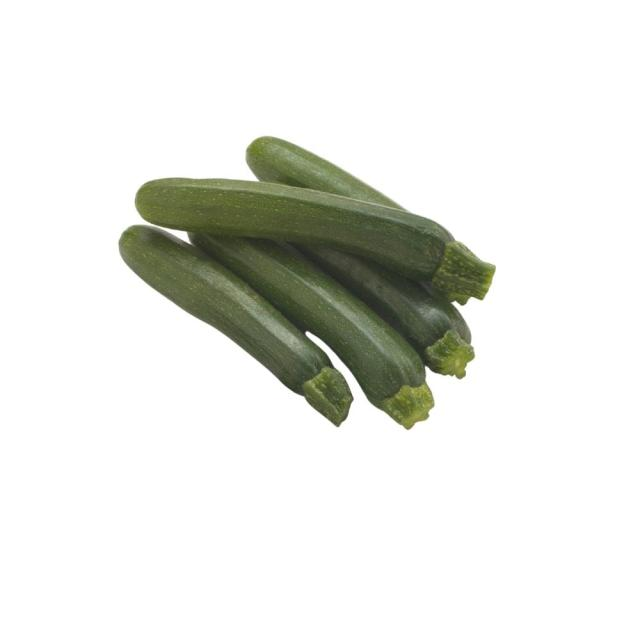Zucchini: (133, 169, 504, 295)
